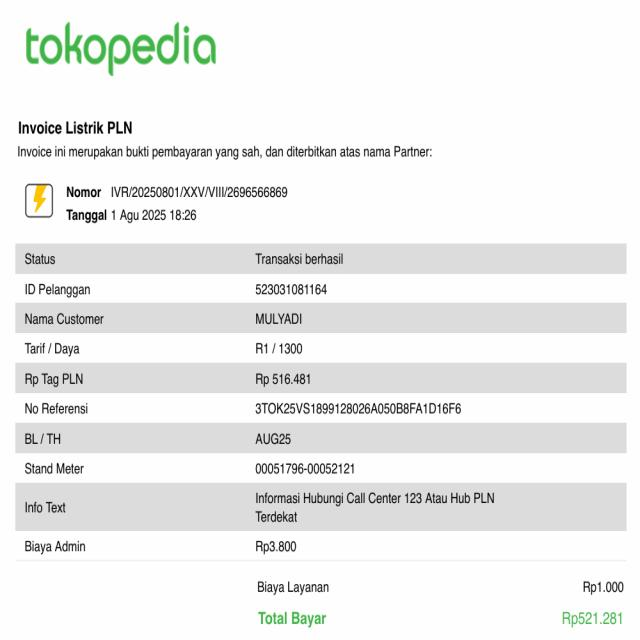date: (110, 207, 198, 224)
store: (22, 23, 224, 80), (15, 116, 139, 137)
total: (255, 604, 629, 637)
